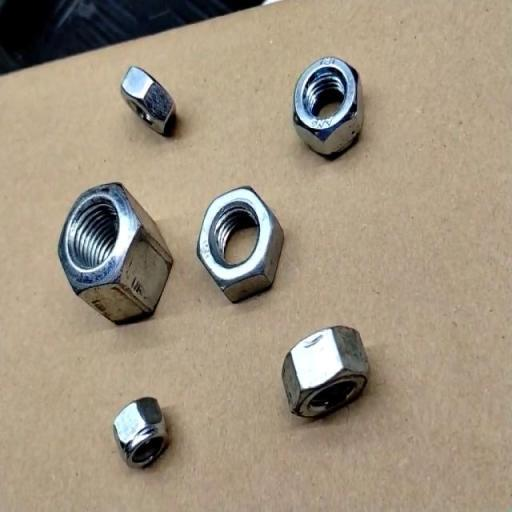Nut: (56, 182, 174, 326), (196, 185, 284, 305), (281, 325, 371, 421), (291, 56, 365, 160), (111, 396, 170, 470), (120, 65, 177, 138)
